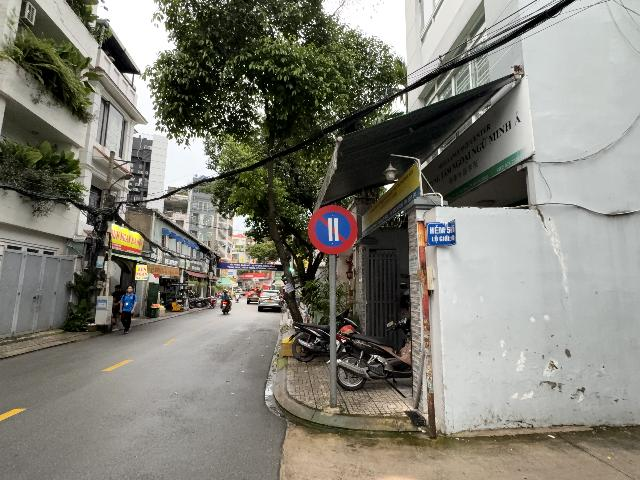cam-do-xe-ngay-chan: (308, 205, 358, 254)
